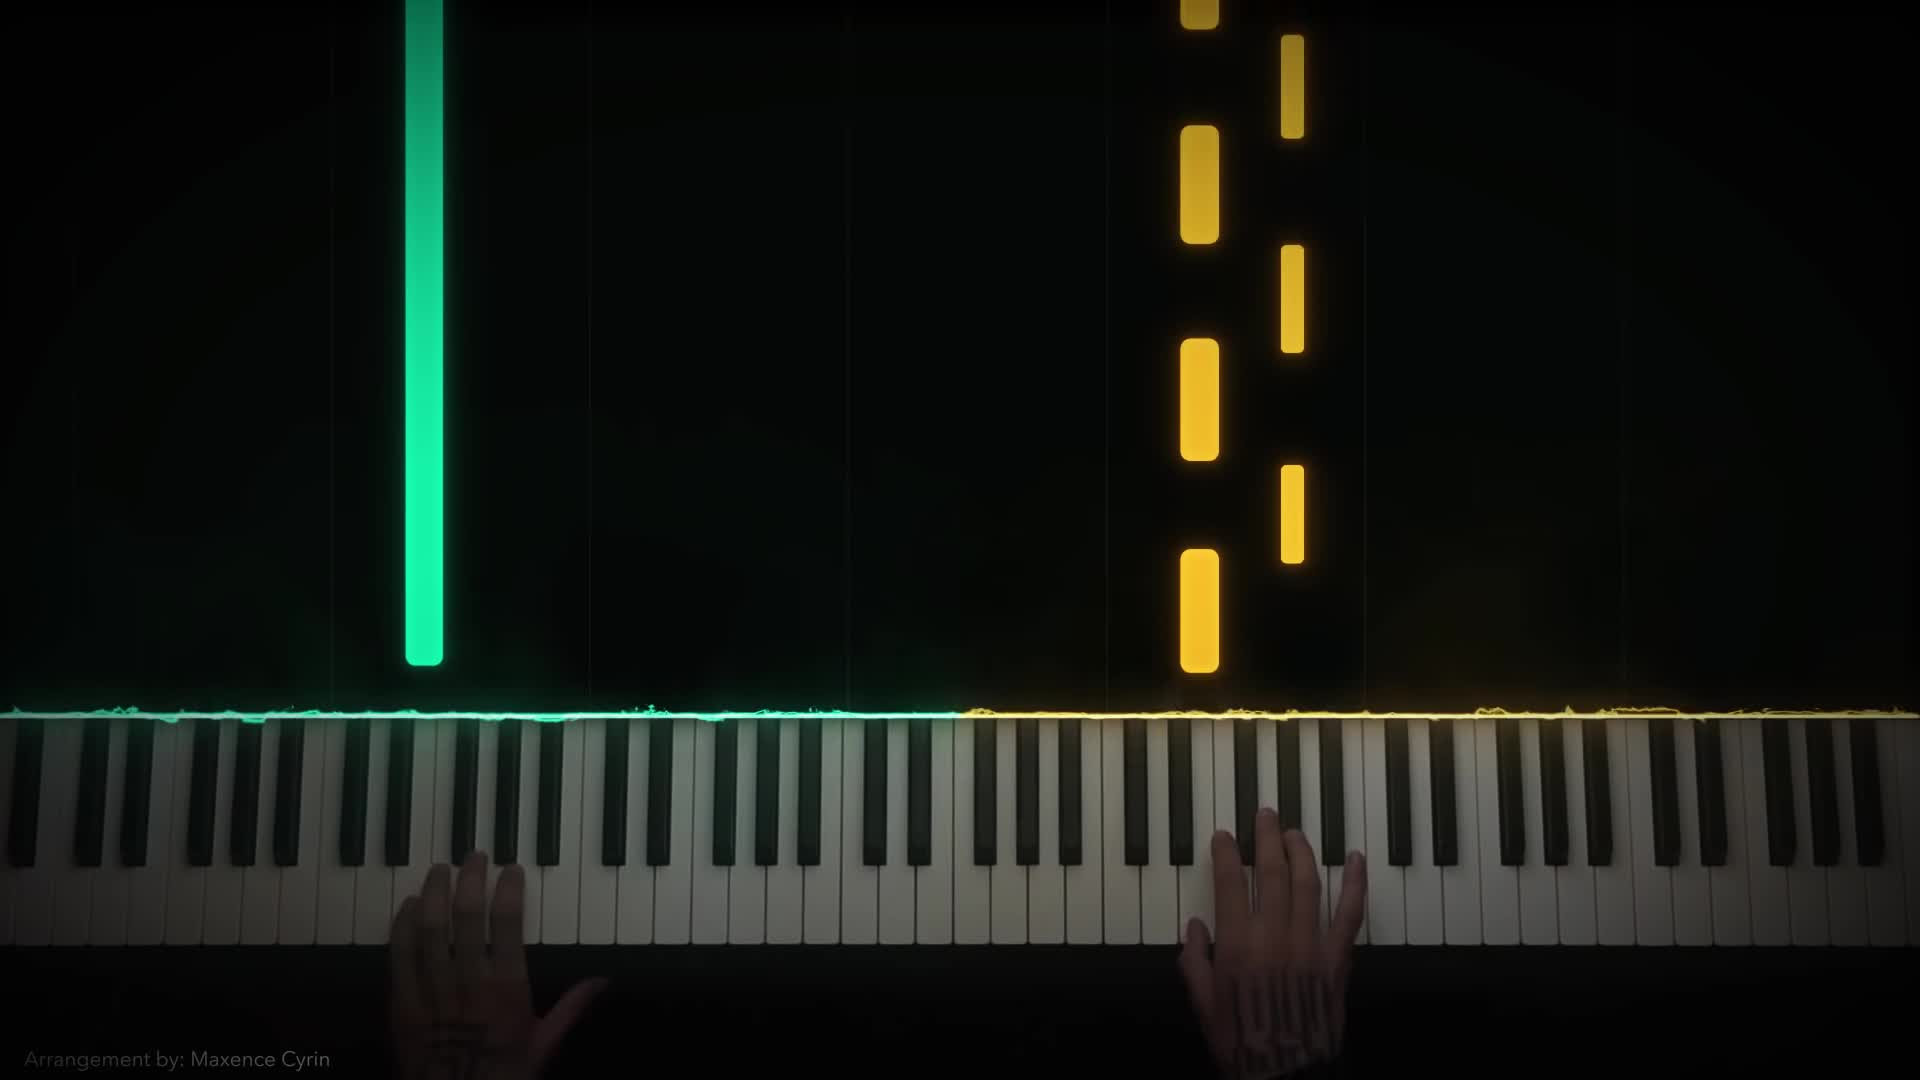left: (382, 848, 612, 1073)
right: (1180, 798, 1374, 1068)
